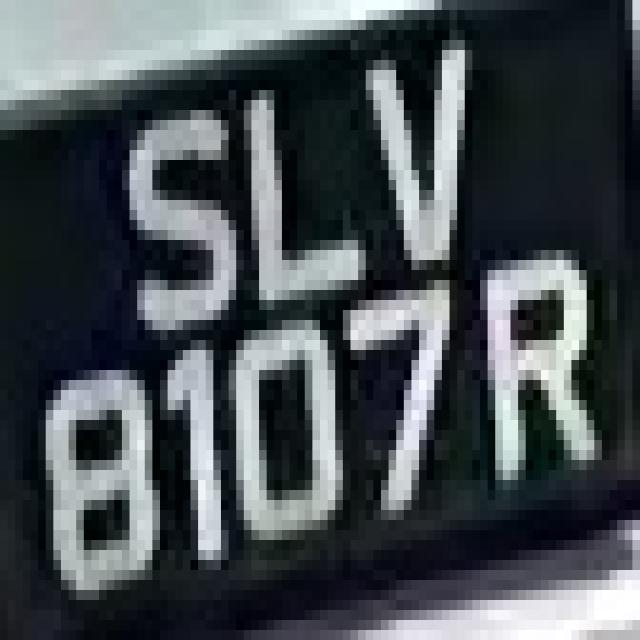0: (221, 330, 358, 560)
1: (152, 310, 236, 600)
7: (336, 280, 472, 580)
8: (22, 340, 168, 630)
L: (229, 60, 358, 340)
R: (457, 240, 617, 530)
S: (107, 80, 236, 330)
V: (343, 40, 503, 270)
